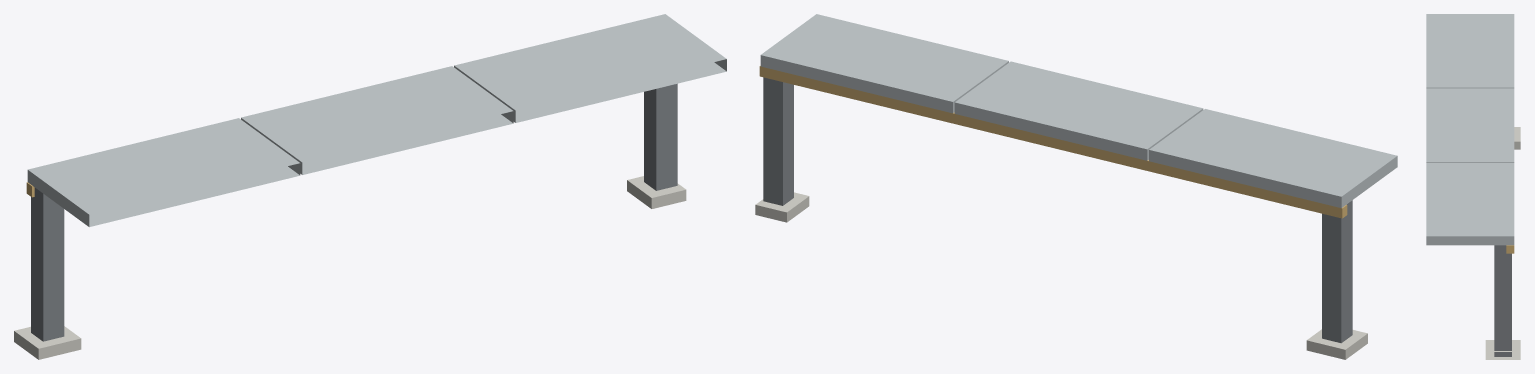
File: lunar-0-0.glb
3 views of the same model, side by side, from view 1: azimuth 30°, elevation 25°; view 2: azimuth 150°, elevation 25°; view 3: azimuth 270°, elevation 25° (orthographic). The views are drawn at different scales.
Visible parts, largest first — view 1: lunar-0-0; view 2: lunar-0-0; view 3: lunar-0-0.
Part boxes in pixels (left/top/right/bottom): lunar-0-0: left=14, top=14, right=726, bottom=359; lunar-0-0: left=755, top=14, right=1397, bottom=359; lunar-0-0: left=1426, top=14, right=1520, bottom=359.
Size of the model in its own units: 48.6 by 12.44 by 8.6.
